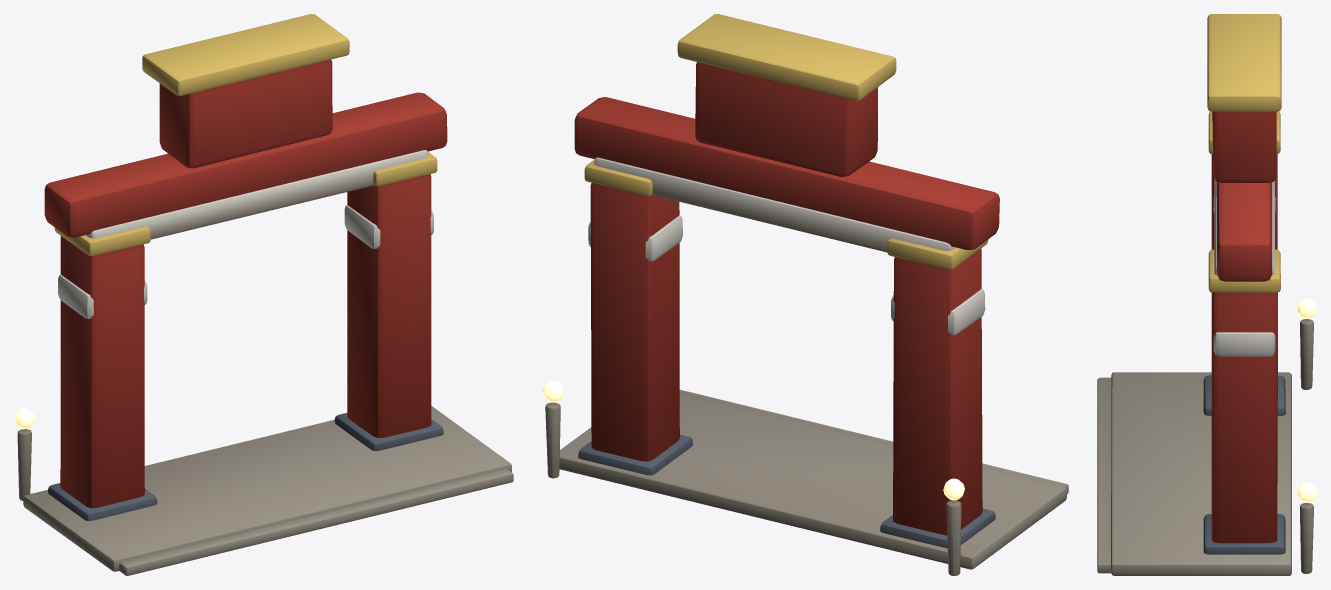
The picture shows the model from 3 angles, left to right: view 1: azimuth 30°, elevation 25°; view 2: azimuth 150°, elevation 25°; view 3: azimuth 270°, elevation 25°; orthographic projection. The views are drawn at different scales.
Parts seen in each view (by area): view 1: gate_f918adad; view 2: gate_f918adad; view 3: gate_f918adad.
Boxes of the visible parts, x1=… form: gate_f918adad: x1=14, y1=14, x2=513, y2=575; gate_f918adad: x1=542, y1=14, x2=1068, y2=575; gate_f918adad: x1=1097, y1=14, x2=1316, y2=575.
Size of the model in its own units: 5.31 by 5.46 by 2.54.
